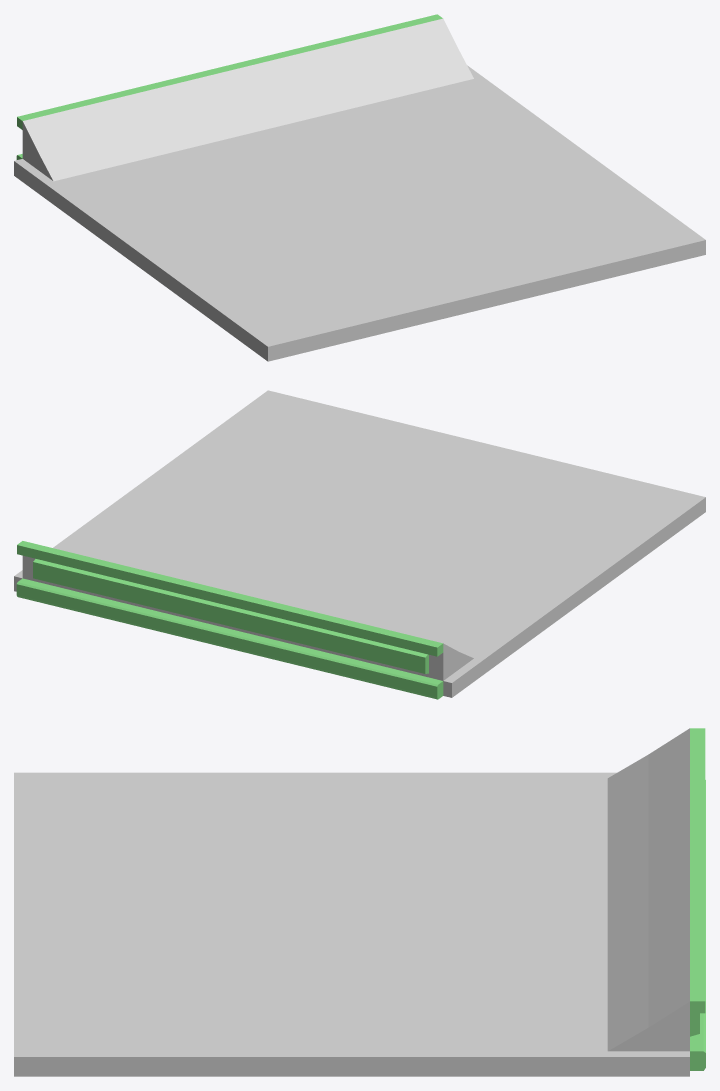
The model's file is Shop_Roof.fbx.
The picture shows the model from 3 angles, top to bottom: view 1: azimuth 30°, elevation 25°; view 2: azimuth 150°, elevation 25°; view 3: azimuth 270°, elevation 25°; orthographic projection. The views are drawn at different scales.
Parts seen in each view (by area): view 1: Shop_Roof; view 2: Shop_Roof; view 3: Shop_Roof.
Part boxes in pixels (<box>): Shop_Roof: <box>14,14,705,361</box>; Shop_Roof: <box>14,390,705,699</box>; Shop_Roof: <box>14,728,705,1076</box>.
Bounding box in the file's own units: 2588 × 296 × 2662.
